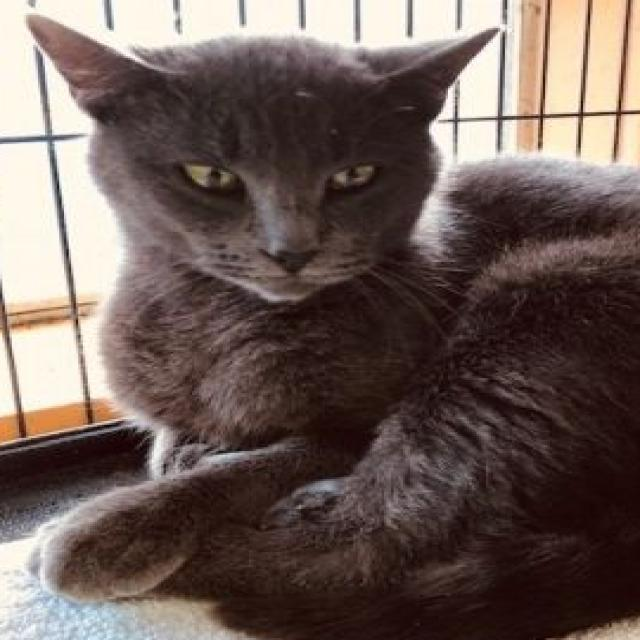Russian Blue: (16, 3, 640, 640)
